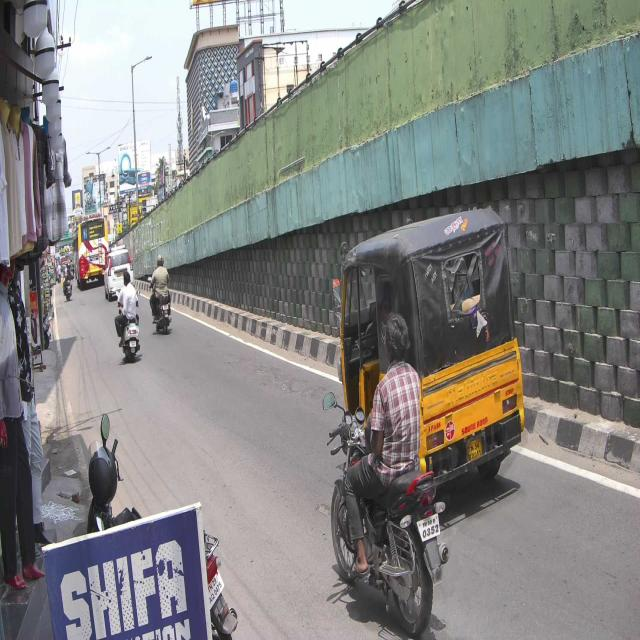single_rider: (327, 310, 448, 637)
